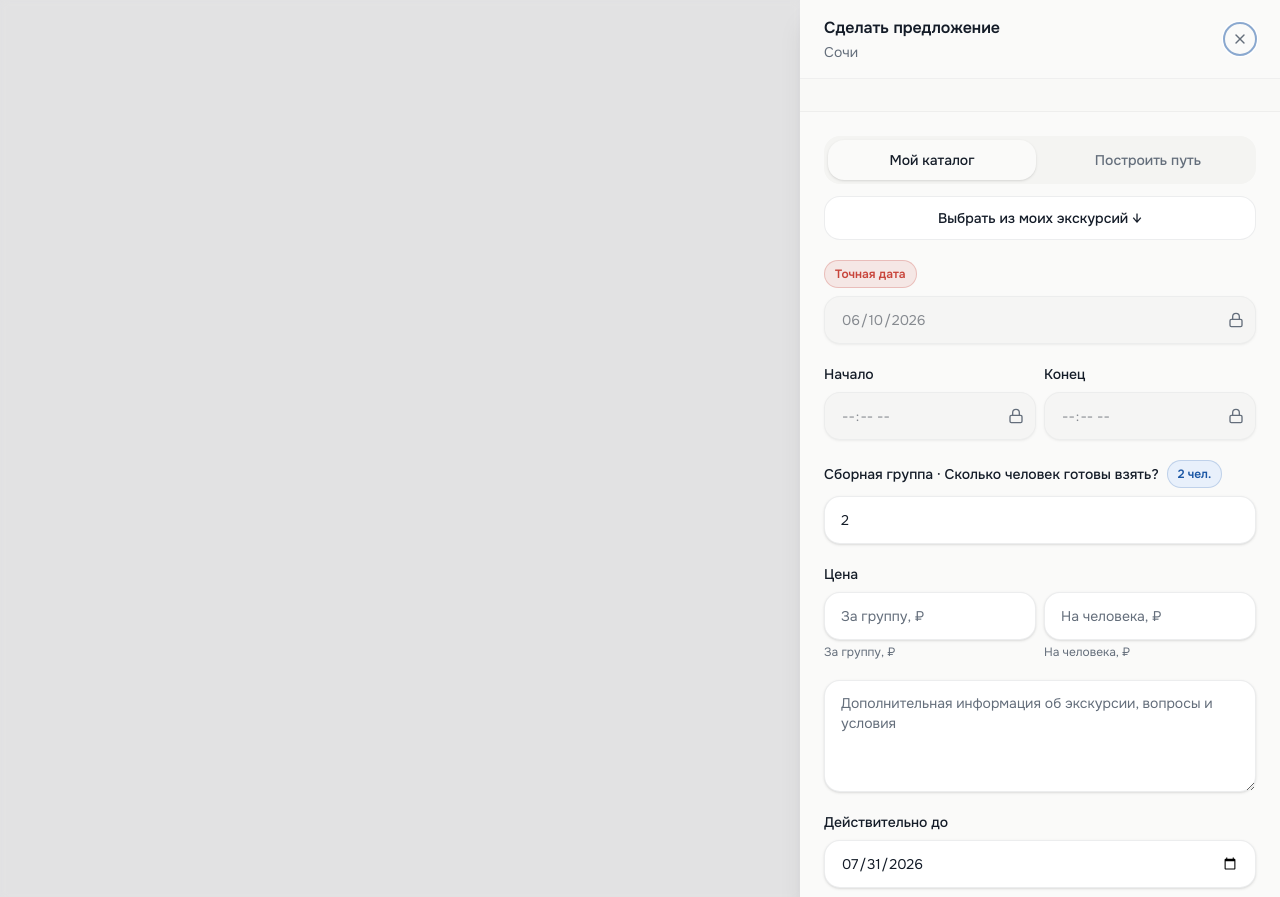
Test: BidFormPanel — catalog and route switcher › shows tabs when catalog templates and route photos are both available
Check: the button "Мой каталог" is shown, box top-left (828, 140), bottom-right (1036, 180)
Check: the button "Выбрать из моих экскурсий ↓" is shown, box top-left (824, 196), bottom-right (1256, 240)
Click the button "Построить путь" at (1148, 160), box top-left (1044, 140), bottom-right (1252, 180)
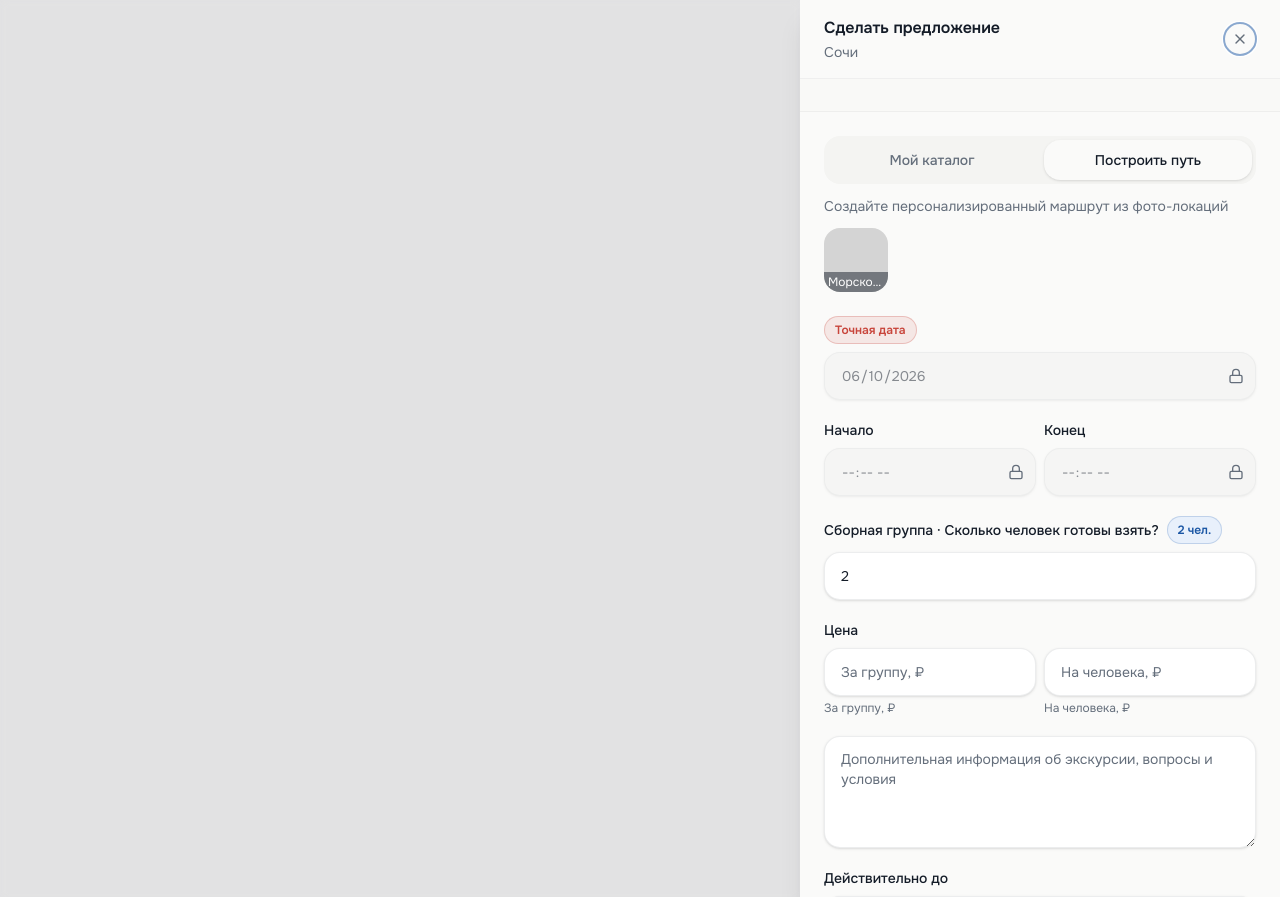
Check: the button "Выбрать из моих экскурсий ↓" is gone
Check: the text "Создайте персонализированный маршрут из фото-локаций" is shown, box top-left (824, 196), bottom-right (1256, 216)
